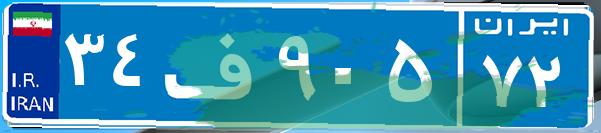0: (330, 28, 385, 110)
2: (525, 38, 570, 115)
3: (57, 26, 110, 107)
4: (110, 28, 158, 105)
5: (385, 28, 445, 110)
7: (475, 38, 525, 113)
9: (273, 28, 330, 110)
ف: (158, 15, 273, 115)
